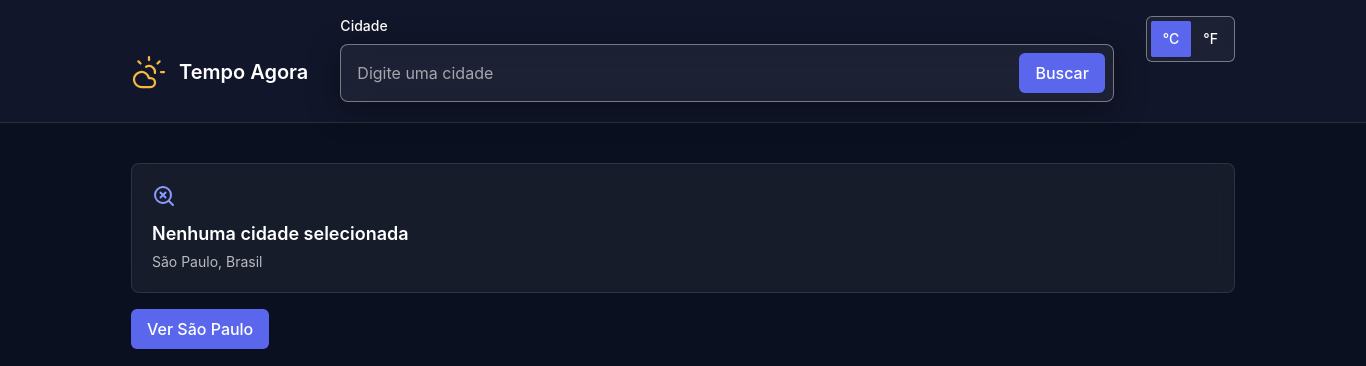
Test: App › mantém o foco na busca durante loading e descarta uma resposta antiga
This screenshot has width=1366, height=366.
Type "São Paulo" into the dropdown labelled "Cidade".
click(680, 73); type("São Paulo")  # box x1=349 y1=53 x2=1012 y2=93
Then press Enter
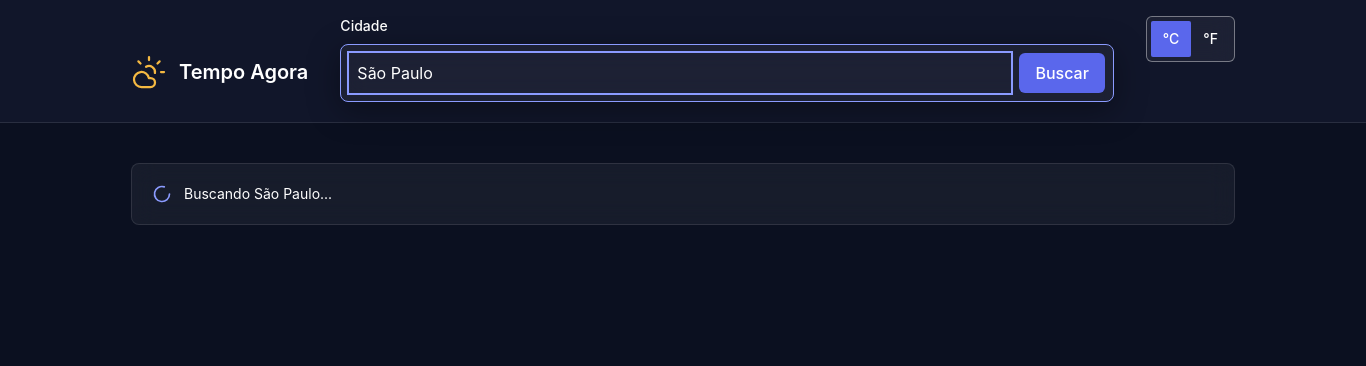
Replace the text in the dropdown labelled "Cidade" with "Rio de Janeiro" at [680, 73], box x1=349 y1=53 x2=1012 y2=93
Then press Enter
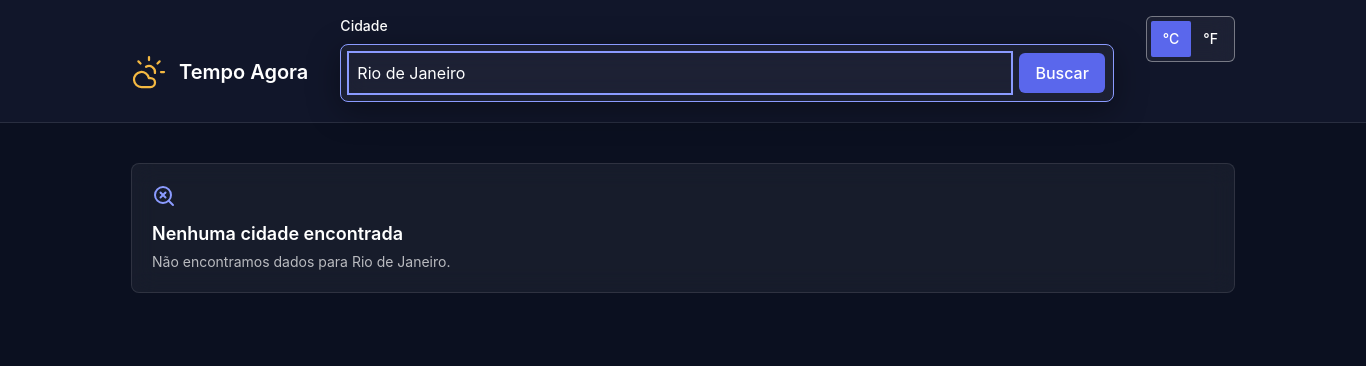
Result: the heading "Nenhuma cidade encontrada" is shown at x1=152 y1=223 x2=403 y2=244
Result: the text "Não encontramos dados para Rio de Janeiro." is shown at x1=152 y1=253 x2=450 y2=270
